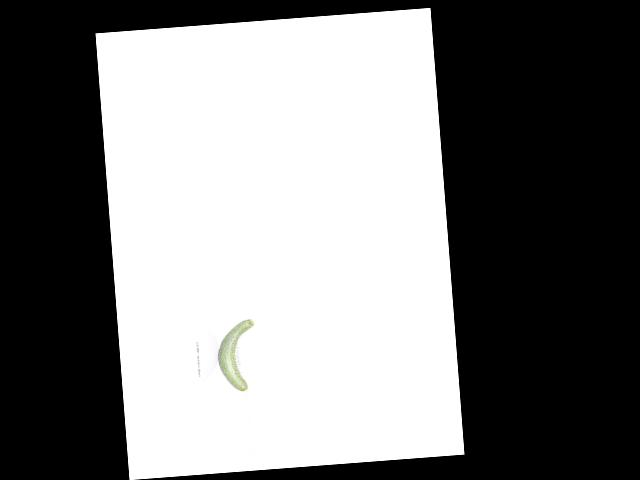cucumber: (215, 318, 259, 392)
